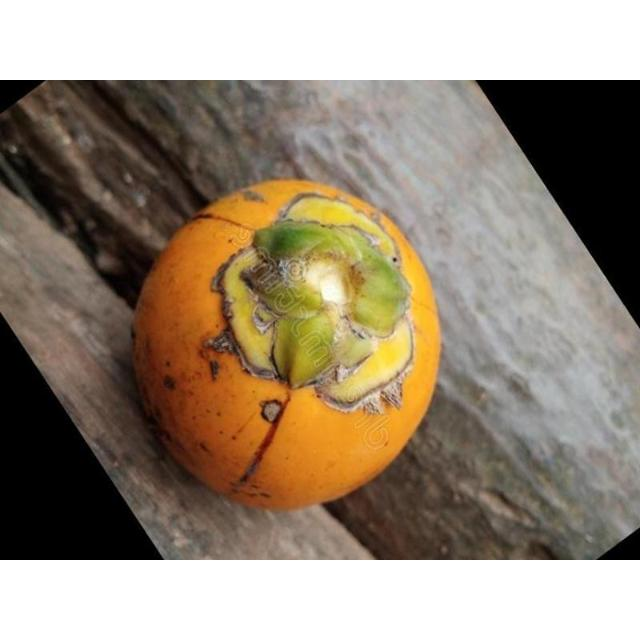good: (130, 179, 442, 514)
